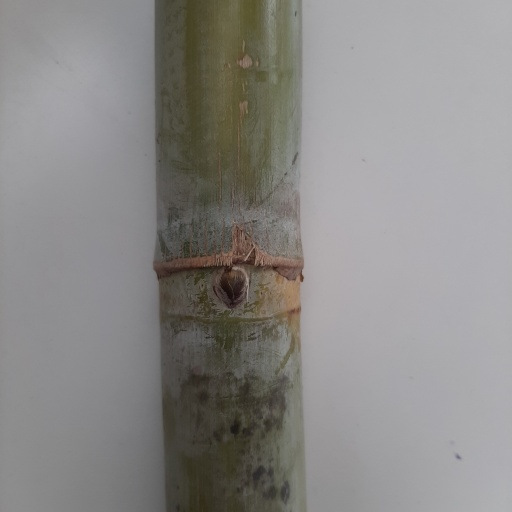Bud: (215, 266, 247, 307)
